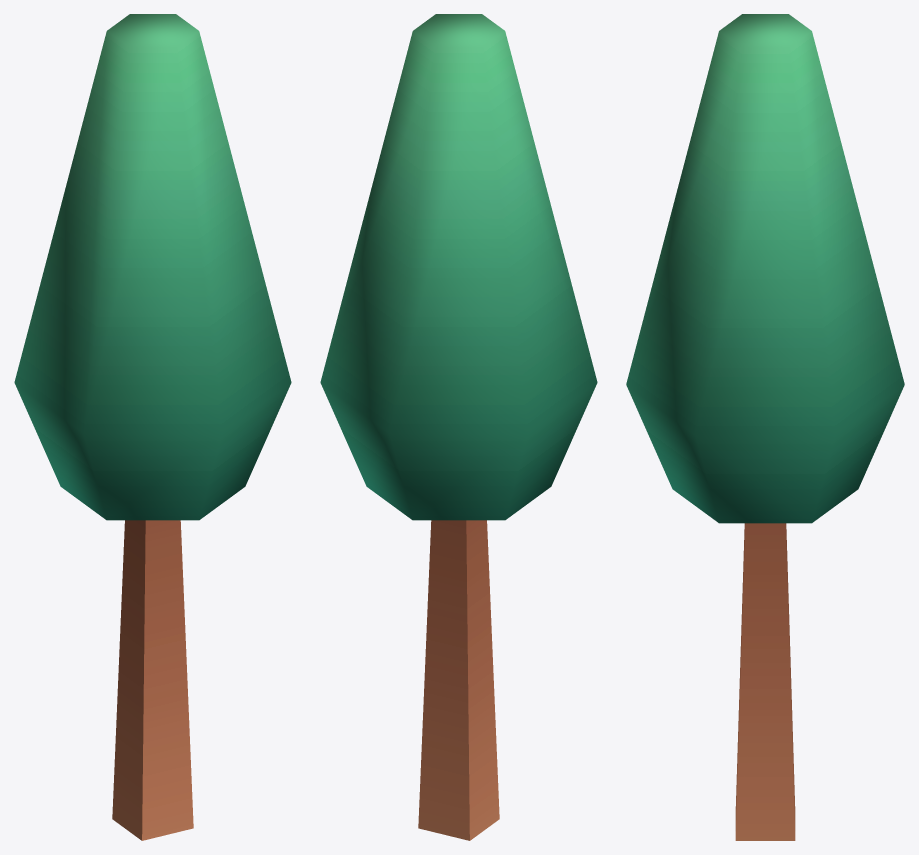
The model's file is tree-large.glb.
The picture shows the model from 3 angles, left to right: view 1: azimuth 30°, elevation 25°; view 2: azimuth 150°, elevation 25°; view 3: azimuth 270°, elevation 25°; orthographic projection.
Visible parts, largest first — view 1: tree-large; view 2: tree-large; view 3: tree-large.
Boxes of the visible parts, x1=… form: tree-large: x1=14, y1=14, x2=291, y2=840; tree-large: x1=320, y1=14, x2=597, y2=840; tree-large: x1=626, y1=14, x2=904, y2=840.
Bounding box in the file's own units: 0.2104 × 0.767 × 0.243.
Materials: 1 (1 with a texture image).
